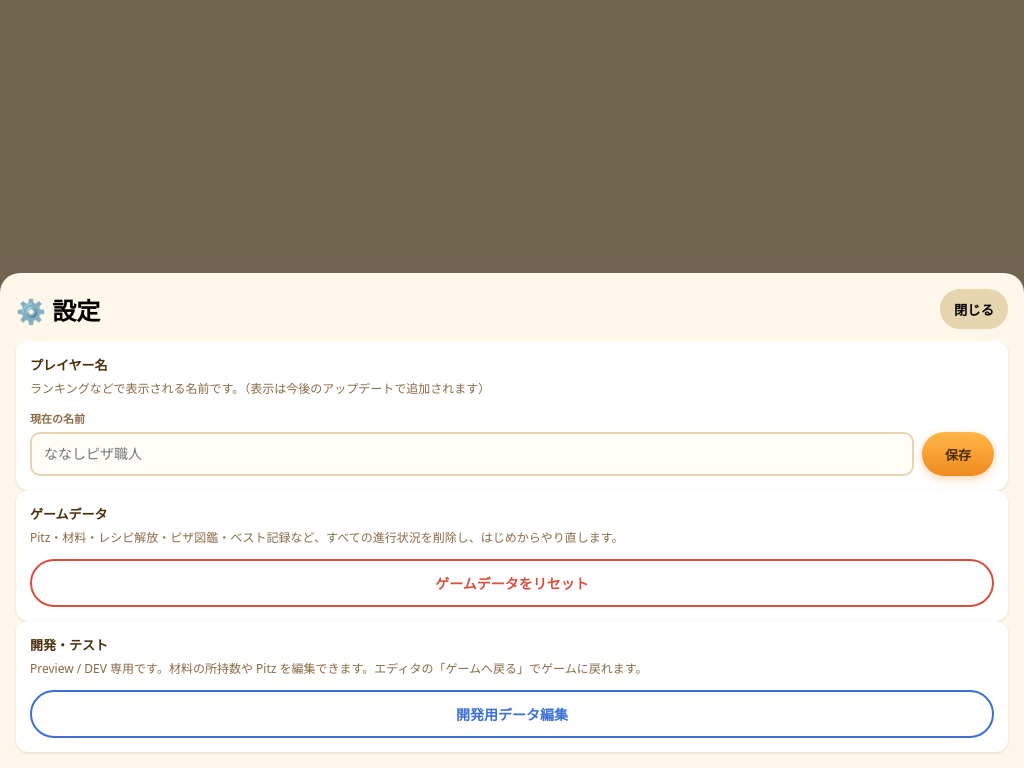
Test: SettingsOverlay -- プレイヤー名 › server error (any other failure status): shows a generic retry message
Type "Alice" into the field labelled "現在の名前" at (472, 454), box [30,432,914,476]
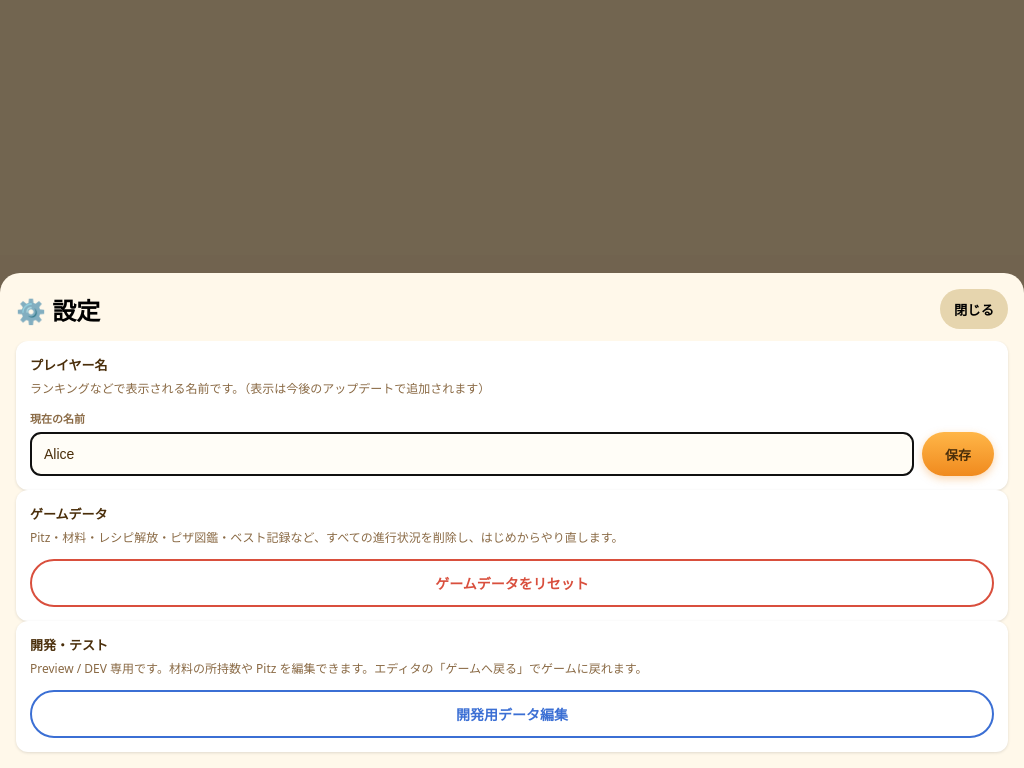
Click the button "保存" at (958, 454), box [922,432,994,476]
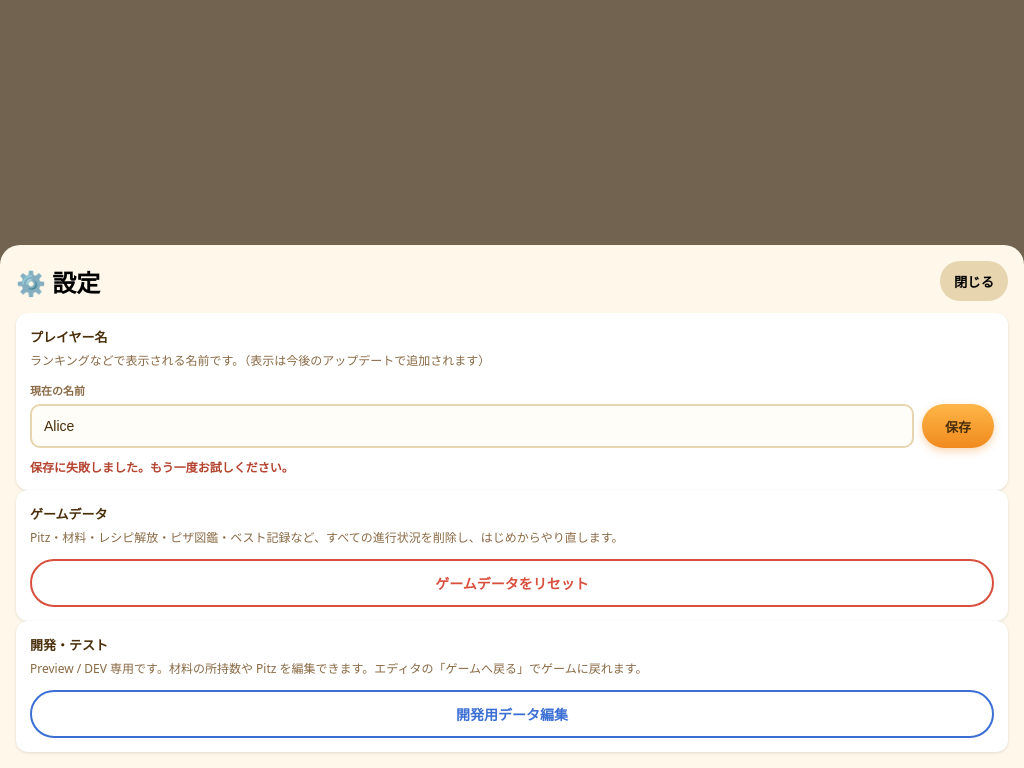
Now the text "保存に失敗しました。もう一度お試しください。" is shown, box [30,459,294,476]
